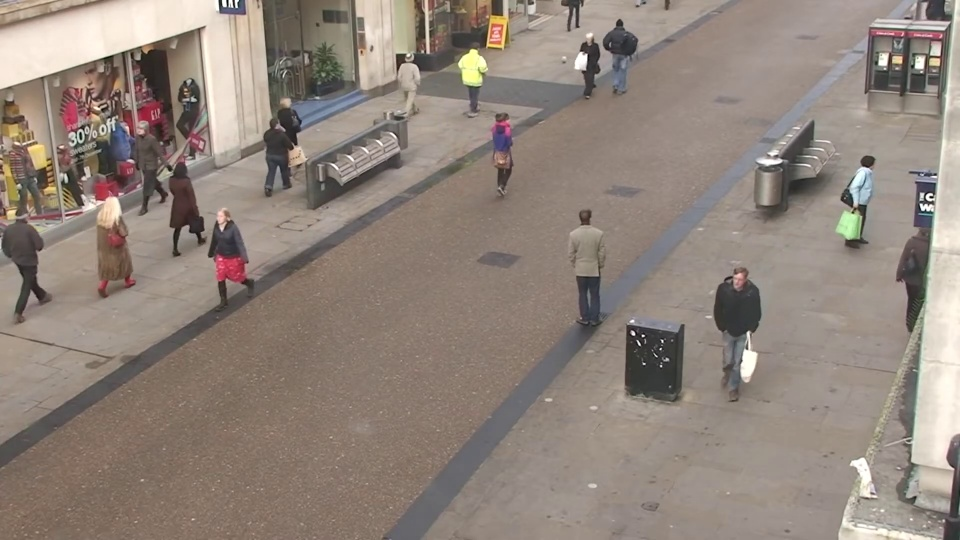pedestrian: (711, 268, 759, 405), (10, 194, 67, 308), (196, 204, 242, 321), (101, 184, 149, 296), (843, 150, 887, 256), (564, 202, 602, 322), (172, 154, 214, 257), (119, 119, 160, 213), (266, 108, 301, 199), (491, 104, 522, 197), (277, 92, 310, 179), (400, 45, 428, 121), (466, 37, 492, 110), (574, 31, 599, 103), (609, 15, 631, 83)
